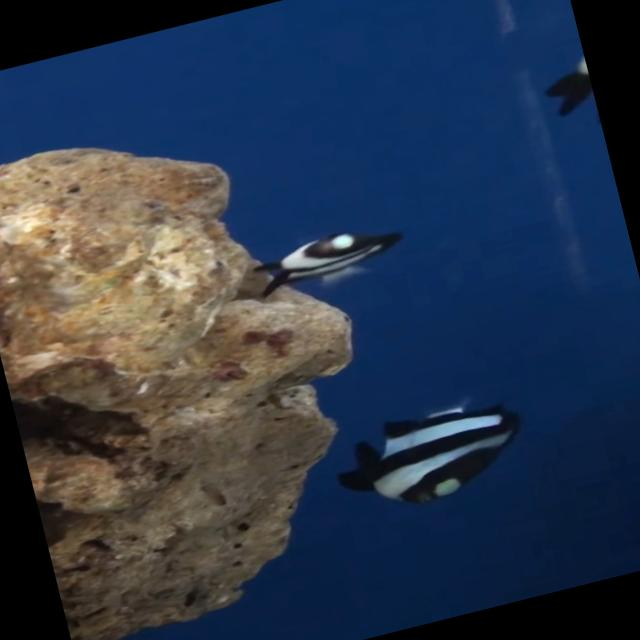ThreeStripedDamselfish: (338, 397, 518, 504), (265, 231, 402, 290)
